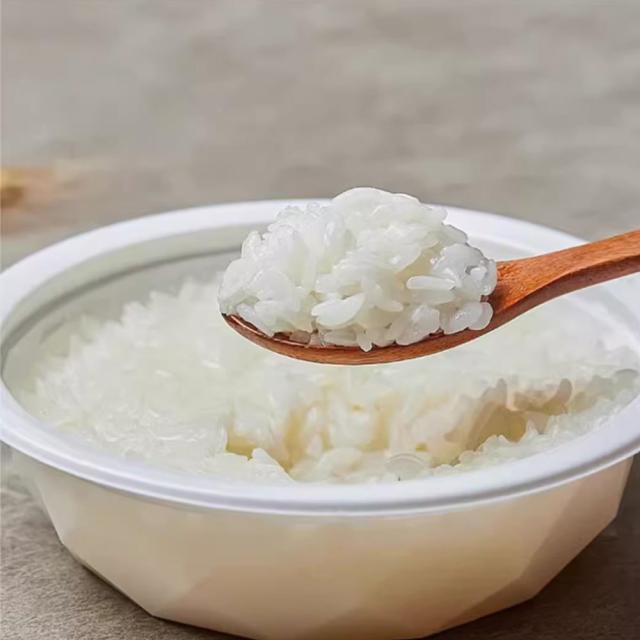arroz: (207, 172, 508, 378)
